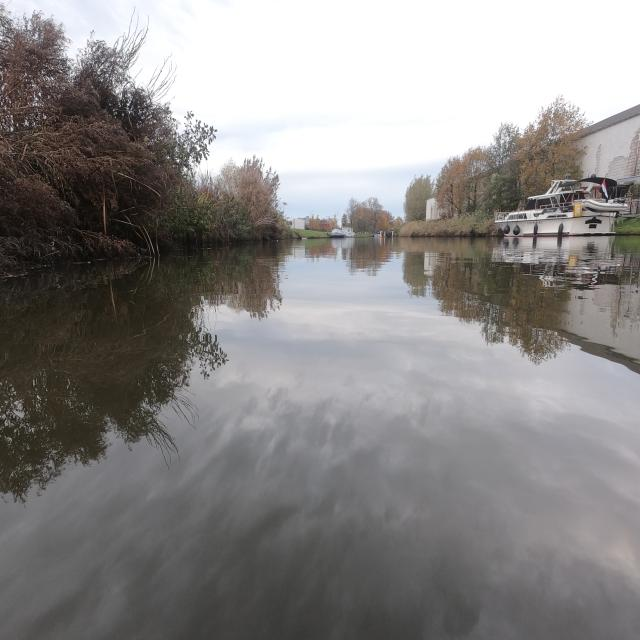boat: (494, 176, 628, 237)
grass: (616, 218, 639, 233)
reed: (0, 5, 286, 272), (395, 212, 493, 235)
sky: (8, 1, 638, 216)
tree: (516, 96, 587, 197), (435, 146, 489, 218), (482, 123, 522, 214)
water: (1, 236, 639, 639)
